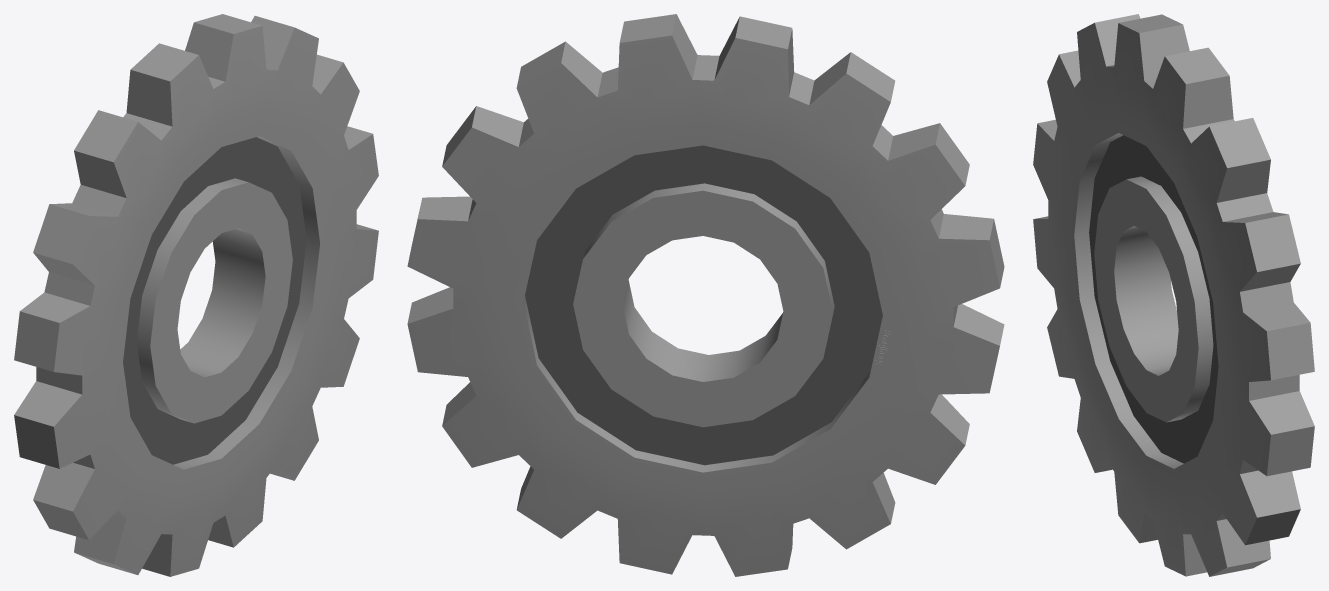
File: gear.fbx
3 views of the same model, side by side, from view 1: azimuth 30°, elevation 25°; view 2: azimuth 150°, elevation 25°; view 3: azimuth 270°, elevation 25° (orthographic). The views are drawn at different scales.
Parts seen in each view (by area): view 1: Circle.2590; view 2: Circle.2590; view 3: Circle.2590.
Part boxes in pixels (<box>): Circle.2590: <box>14,14,378,576</box>; Circle.2590: <box>407,14,1004,576</box>; Circle.2590: <box>1033,14,1314,576</box>.
Size of the model in its own units: 187 by 198 by 99.13.
Materials: 1 (1 with a texture image).
